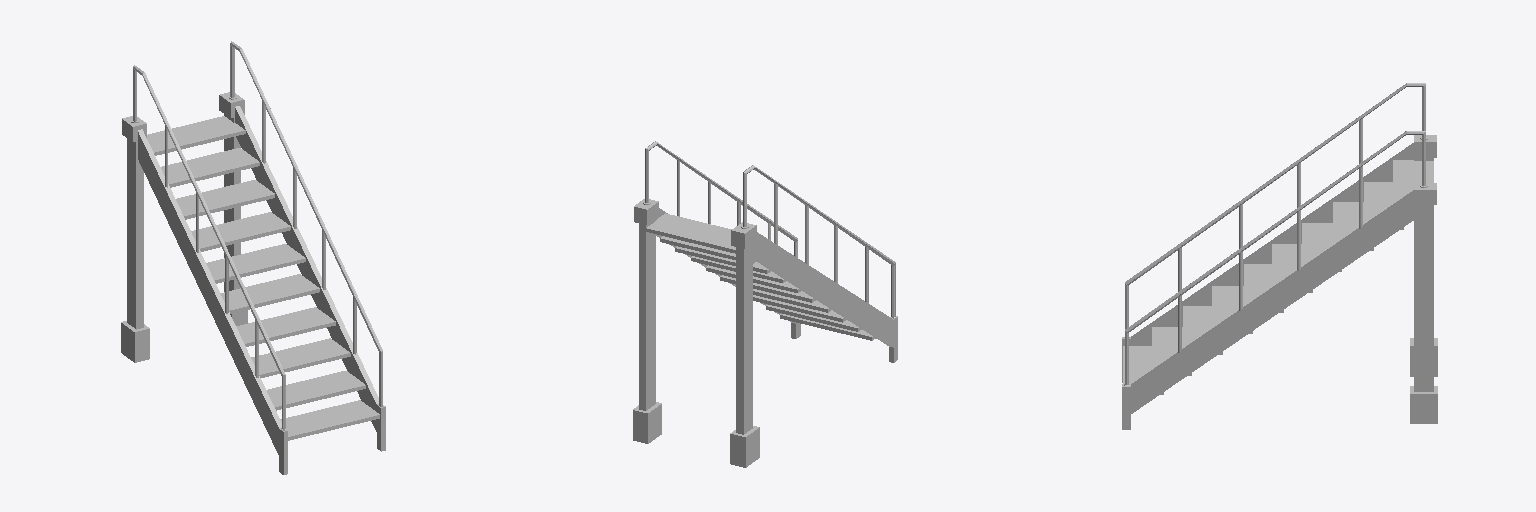
Rendered from stairs.obj.
3 renders of one model, left to right at view 1: azimuth 30°, elevation 25°; view 2: azimuth 150°, elevation 25°; view 3: azimuth 270°, elevation 25°, orthographic.
Visible parts, largest first — view 1: Cube.000_Cube.001; view 2: Cube.000_Cube.001; view 3: Cube.000_Cube.001.
Boxes of the visible parts, x1=… form: Cube.000_Cube.001: x1=121, y1=41, x2=385, y2=474; Cube.000_Cube.001: x1=633, y1=141, x2=897, y2=467; Cube.000_Cube.001: x1=1122, y1=83, x2=1437, y2=429.
Bounding box in the file's own units: 2.86 × 7.2 × 6.9.